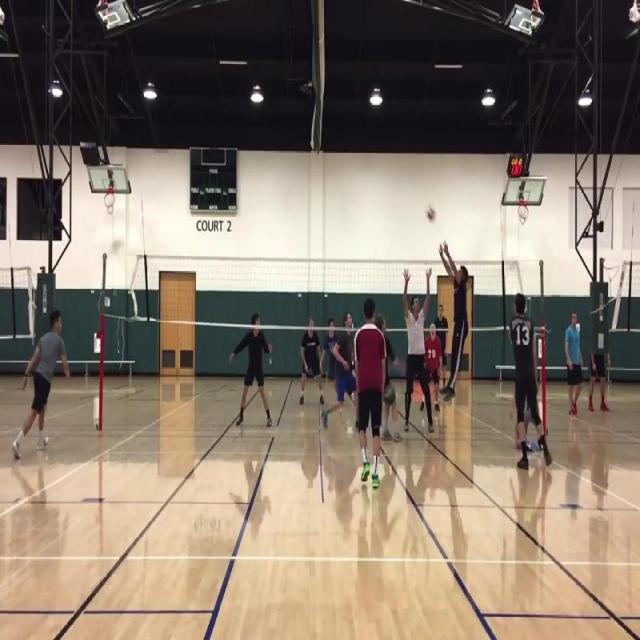volleyball: (427, 206, 436, 222)
